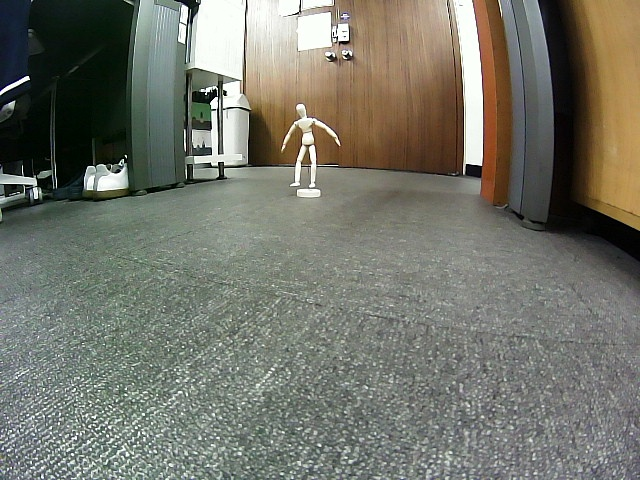person: (281, 103, 340, 188)
